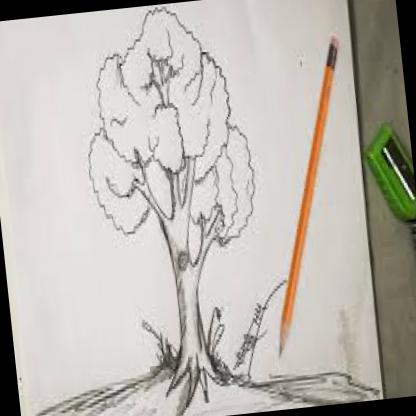crown_dizzy: (73, 2, 261, 262)
knot: (176, 252, 191, 272)
root_upside: (158, 343, 224, 416)
trunk_straight: (172, 273, 207, 350)
